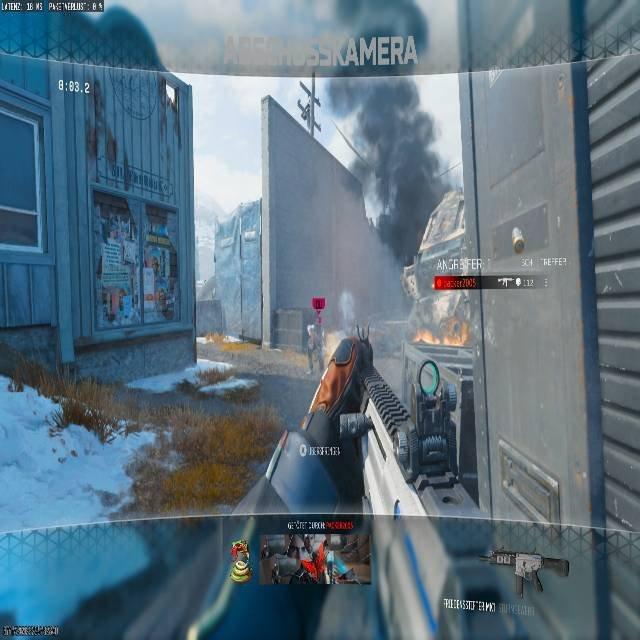player: (303, 305, 326, 373)
